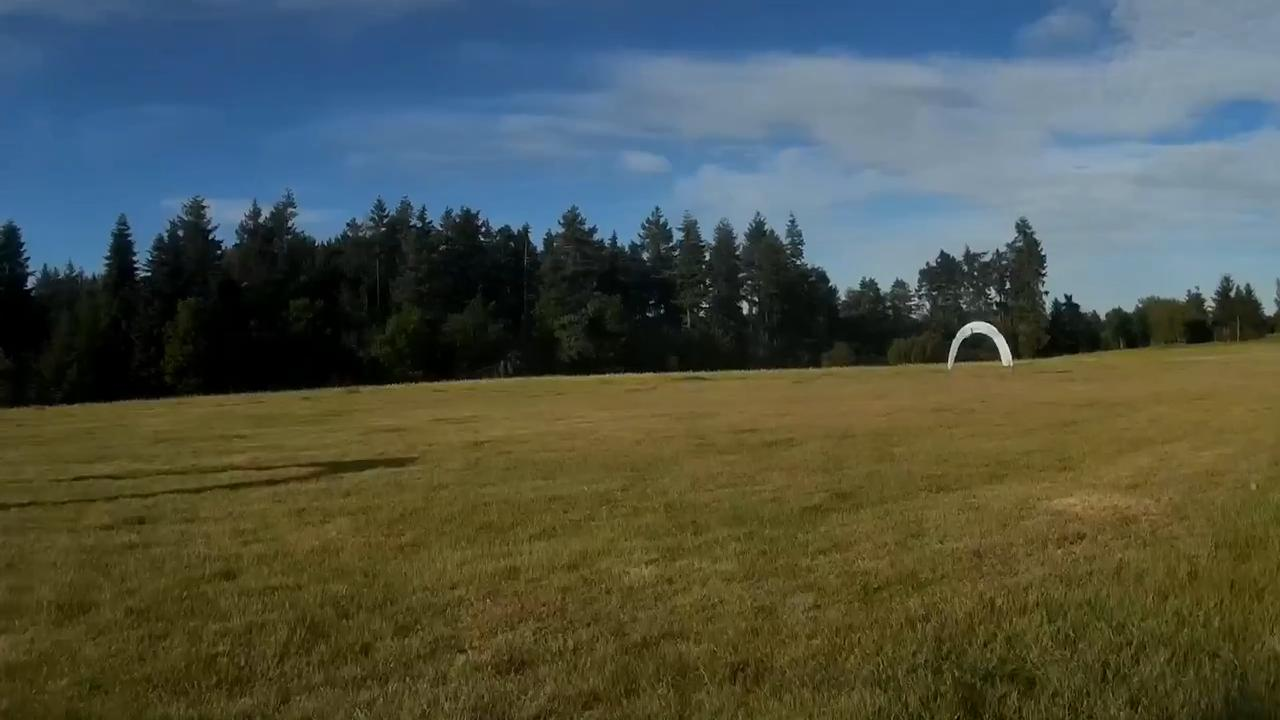gate: (948, 322, 1011, 368)
